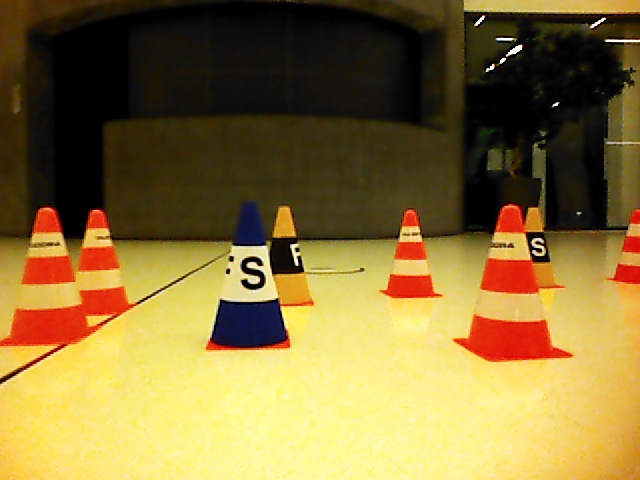bluecone: (213, 202, 284, 347)
orangeconesmall: (468, 203, 554, 353), (13, 206, 83, 338), (81, 207, 126, 309), (385, 209, 434, 295), (615, 209, 640, 278)
yellowcone: (276, 204, 310, 305), (532, 207, 556, 286)
